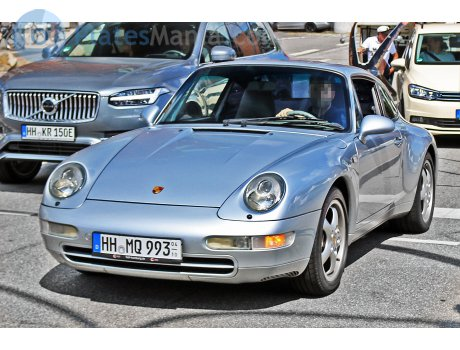License Plates: (103, 232, 173, 258)
